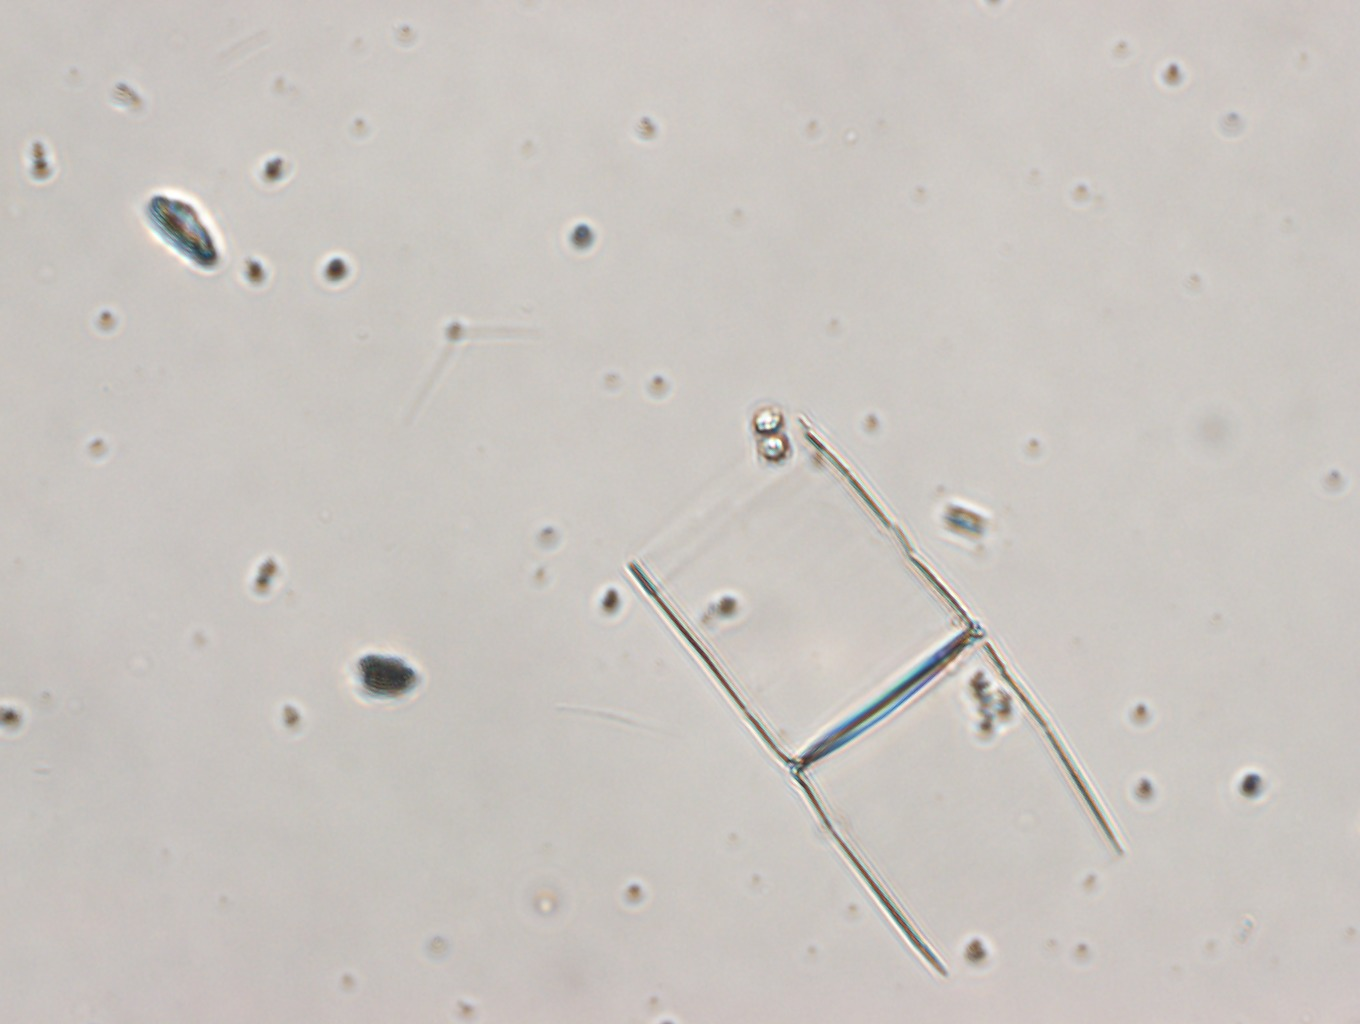guinardia flaccida: (626, 413, 1132, 980)
